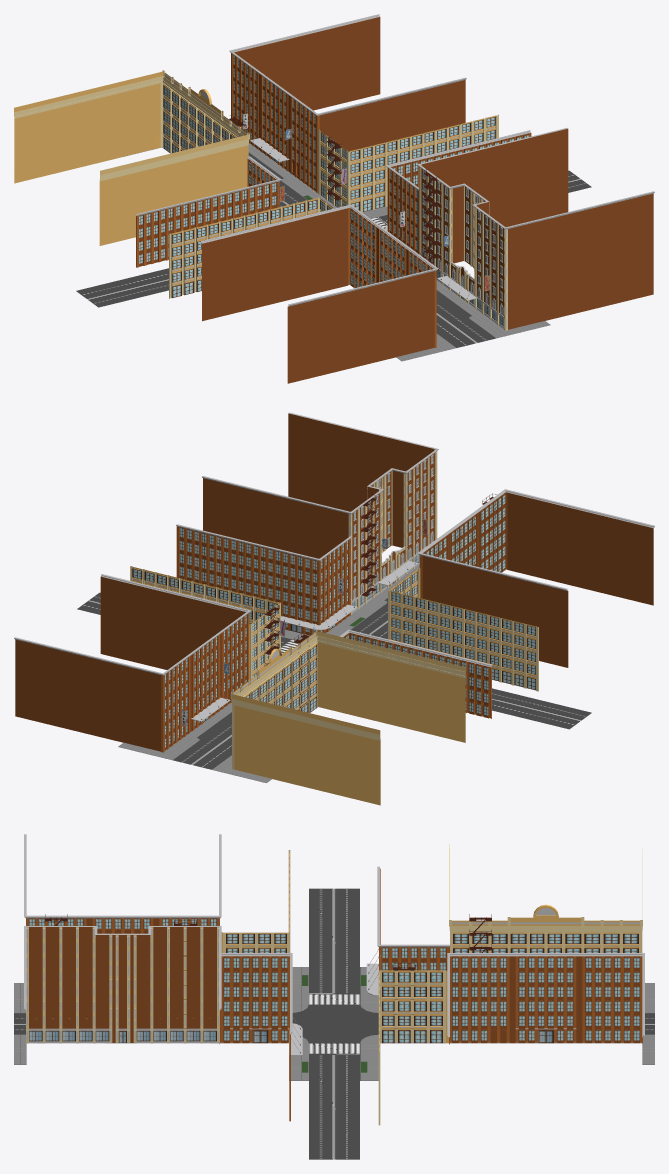
Rendered from TileCity4_4.fbx.
The picture shows the model from 3 angles, top to bottom: view 1: azimuth 30°, elevation 25°; view 2: azimuth 150°, elevation 25°; view 3: azimuth 270°, elevation 25°; orthographic projection. The views are drawn at different scales.
Parts seen in each view (by area): view 1: Sidewalk1.079, Sidewalk1.099, Sidewalk1.068, Sidewalk1.078, Sidewalk1.140, Sidewalk1.067, Sidewalk1.098, Sidewalk1.077, Sidewalk1.096, Sidewalk1.141, Sidewalk1.097, Sidewalk1.139 (+32 smaller); view 2: Sidewalk1.079, Sidewalk1.068, Sidewalk1.099, Sidewalk1.067, Sidewalk1.078, Sidewalk1.140, Sidewalk1.098, Sidewalk1.096, Sidewalk1.077, Sidewalk1.066, Sidewalk1.141, Sidewalk1.097 (+32 smaller); view 3: Road1.002, Sidewalk1.096, Sidewalk1.109, Sidewalk1.017, Sidewalk1.067, Sidewalk1.138, Sidewalk1.140, Sidewalk1.100, Sidewalk1.004, Sidewalk1.139, Sidewalk1.126, Sidewalk1.011 (+35 smaller).
Boxes of the visible parts, x1,y1,x2,y2 form: Sidewalk1.079: (202, 208, 436, 318); Sidewalk1.099: (14, 83, 248, 194); Sidewalk1.068: (231, 17, 465, 128); Sidewalk1.078: (202, 220, 436, 331); Sidewalk1.140: (419, 141, 653, 253); Sidewalk1.067: (231, 30, 465, 141); Sidewalk1.098: (14, 95, 247, 207); Sidewalk1.077: (202, 233, 436, 344); Sidewalk1.096: (14, 70, 249, 181); Sidewalk1.141: (419, 129, 653, 240); Sidewalk1.097: (14, 108, 247, 219); Sidewalk1.139: (419, 154, 653, 266); Sidewalk1.079: (419, 492, 653, 603); Sidewalk1.068: (15, 576, 249, 688); Sidewalk1.099: (232, 642, 465, 753); Sidewalk1.067: (15, 589, 249, 701); Sidewalk1.078: (420, 505, 653, 616); Sidewalk1.140: (203, 426, 437, 536); Sidewalk1.098: (232, 655, 465, 766); Sidewalk1.096: (230, 630, 465, 740); Sidewalk1.077: (420, 517, 653, 629); Sidewalk1.066: (15, 602, 249, 713); Sidewalk1.141: (203, 413, 437, 524); Sidewalk1.097: (232, 668, 465, 779); Road1.002: (309, 888, 359, 1159); Sidewalk1.096: (449, 844, 642, 932); Sidewalk1.109: (26, 999, 219, 1021); Sidewalk1.017: (450, 999, 642, 1014); Sidewalk1.067: (450, 970, 642, 985); Sidewalk1.138: (26, 970, 218, 992); Sidewalk1.140: (26, 941, 218, 963); Sidewalk1.100: (26, 1028, 219, 1044); Sidewalk1.004: (449, 1028, 642, 1044); Sidewalk1.139: (26, 955, 218, 978); Sidewalk1.126: (26, 985, 218, 1007); Sidewalk1.011: (450, 1014, 642, 1028).
Size of the model in its own units: 20000 by 4130 by 20000.
